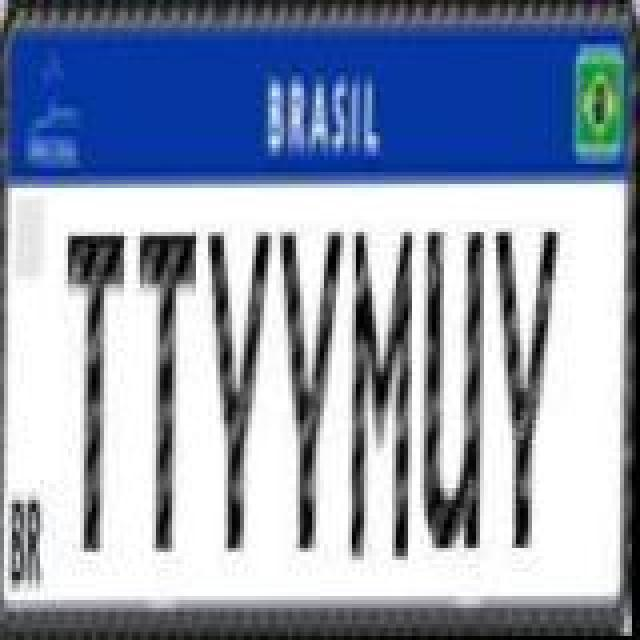M: (350, 228, 418, 568)
T: (64, 228, 128, 556), (136, 226, 200, 554)
U: (424, 224, 488, 556)
Y: (204, 226, 276, 554), (276, 228, 348, 552), (490, 222, 558, 554)
